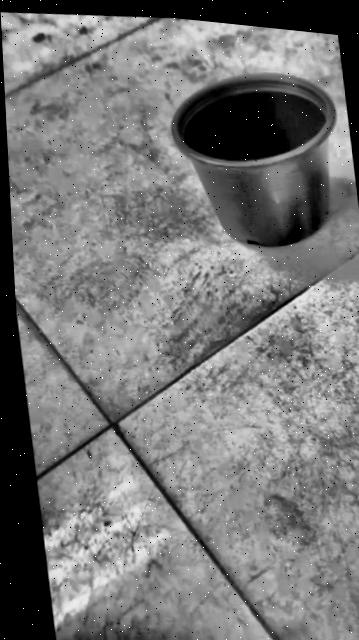pot: (161, 58, 354, 261)
